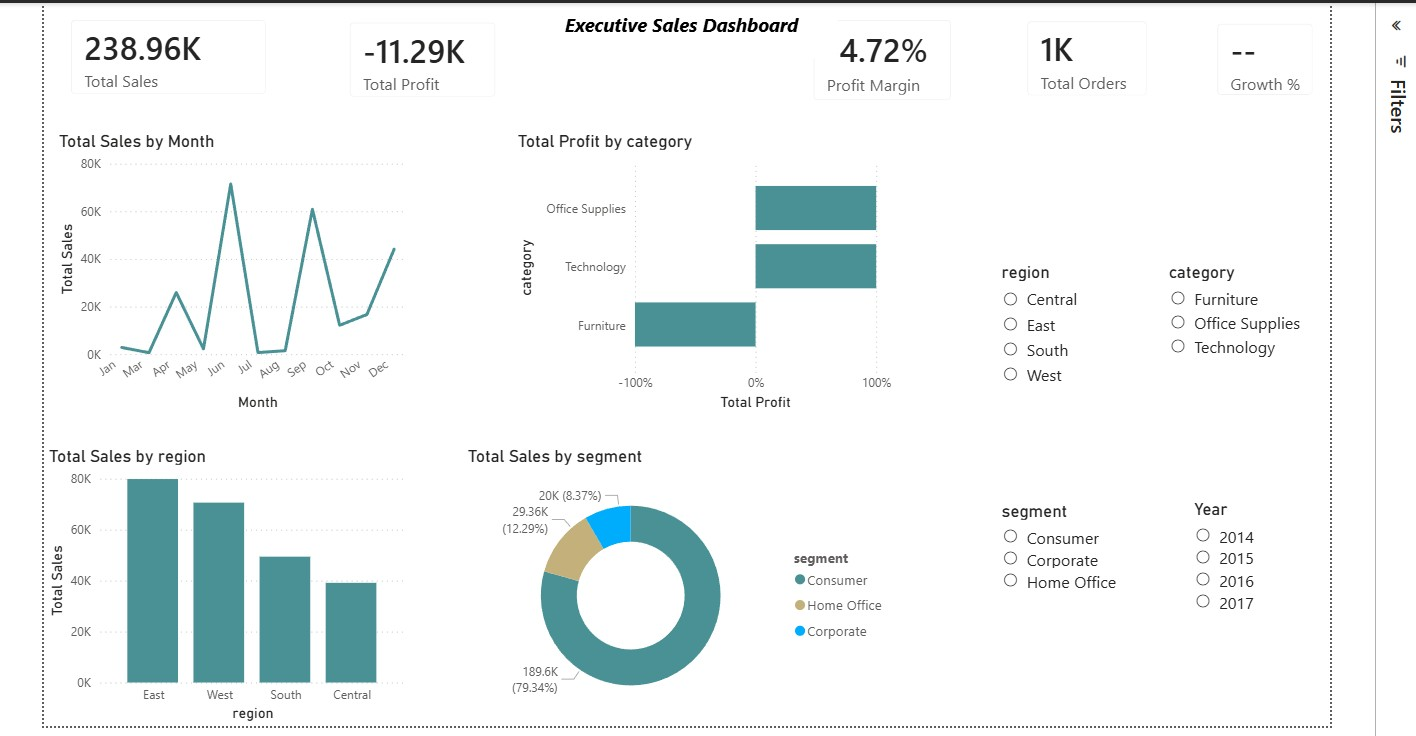

Layout of this report page (visuals, bound fields, positions):
{"tool":"powerbi","page":{"name":"Page 1","canvas":[1280,720],"ordinal":0},"visuals":[{"type":"cardVisual","fields":{"Data":["Calendar.Total Sales"]},"box":[10,0,228.9,108.2],"z":0},{"type":"cardVisual","fields":{"Data":["Calendar.Total Profit"]},"box":[287.4,2.5,179.1,108.2],"z":1000},{"type":"cardVisual","fields":{"Data":["Calendar.Profit Margin"]},"box":[748.9,0,171.7,114.4],"z":2000},{"type":"cardVisual","fields":{"Data":["Calendar.Growth %"]},"box":[1150.7,3.7,129.4,105.7],"z":3000},{"type":"cardVisual","fields":{"Data":["Calendar.Total Orders"]},"box":[961.6,1.2,153,108.2],"z":4000},{"type":"lineChart","fields":{"Y":["Calendar.Total Sales"],"Category":["Calendar.Month"]},"box":[10,126.9,354.5,283.6],"z":5000},{"type":"clusteredColumnChart","fields":{"Y":["Calendar.Total Sales"],"Category":["task_3.region"]},"box":[0,440.4,364.5,279.9],"z":5001},{"type":"hundredPercentStackedBarChart","fields":{"Category":["task_3.category"],"Y":["Calendar.Total Profit"]},"box":[466.5,126.9,381.9,283.6],"z":5002},{"type":"donutChart","fields":{"Category":["task_3.segment"],"Y":["Calendar.Total Sales"]},"box":[416.7,440.4,431.7,279.9],"z":5003},{"type":"listSlicer","fields":{"Values":["task_3.ship_date.Variation.Date Hierarchy.Year"]},"box":[1139.5,493.9,140.6,206.5],"z":5004},{"type":"listSlicer","fields":{"Values":["task_3.region"]},"box":[947.9,257.5,144.3,236.4],"z":5005},{"type":"listSlicer","fields":{"Values":["task_3.category"]},"box":[1114.6,257.5,153,228.9],"z":5006},{"type":"listSlicer","fields":{"Values":["task_3.segment"]},"box":[947.9,495.1,144.3,205.3],"z":5007},{"type":"textbox","box":[478.9,3.7,311,51],"z":5008}]}

Visuals, with their boxes on the page's 1280x720 design canvas (x1, y1, x2, y2). These are canvas units, not pixel positions in the 1416x736 screenshot, which may show the page scaled, cropped or inside an application window:
cardVisual - Calendar.Total Sales: (10, 0, 239, 108)
cardVisual - Calendar.Total Profit: (287, 2, 466, 111)
cardVisual - Calendar.Profit Margin: (749, 0, 921, 114)
cardVisual - Calendar.Growth %: (1151, 4, 1280, 109)
cardVisual - Calendar.Total Orders: (962, 1, 1115, 109)
lineChart - Calendar.Total Sales x Calendar.Month: (10, 127, 364, 410)
clusteredColumnChart - Calendar.Total Sales x task_3.region: (0, 440, 364, 720)
hundredPercentStackedBarChart - task_3.category x Calendar.Total Profit: (466, 127, 848, 410)
donutChart - task_3.segment x Calendar.Total Sales: (417, 440, 848, 720)
listSlicer - task_3.ship_date.Variation.Date Hierarchy.Year: (1140, 494, 1280, 700)
listSlicer - task_3.region: (948, 258, 1092, 494)
listSlicer - task_3.category: (1115, 258, 1268, 486)
listSlicer - task_3.segment: (948, 495, 1092, 700)
textbox: (479, 4, 790, 55)
